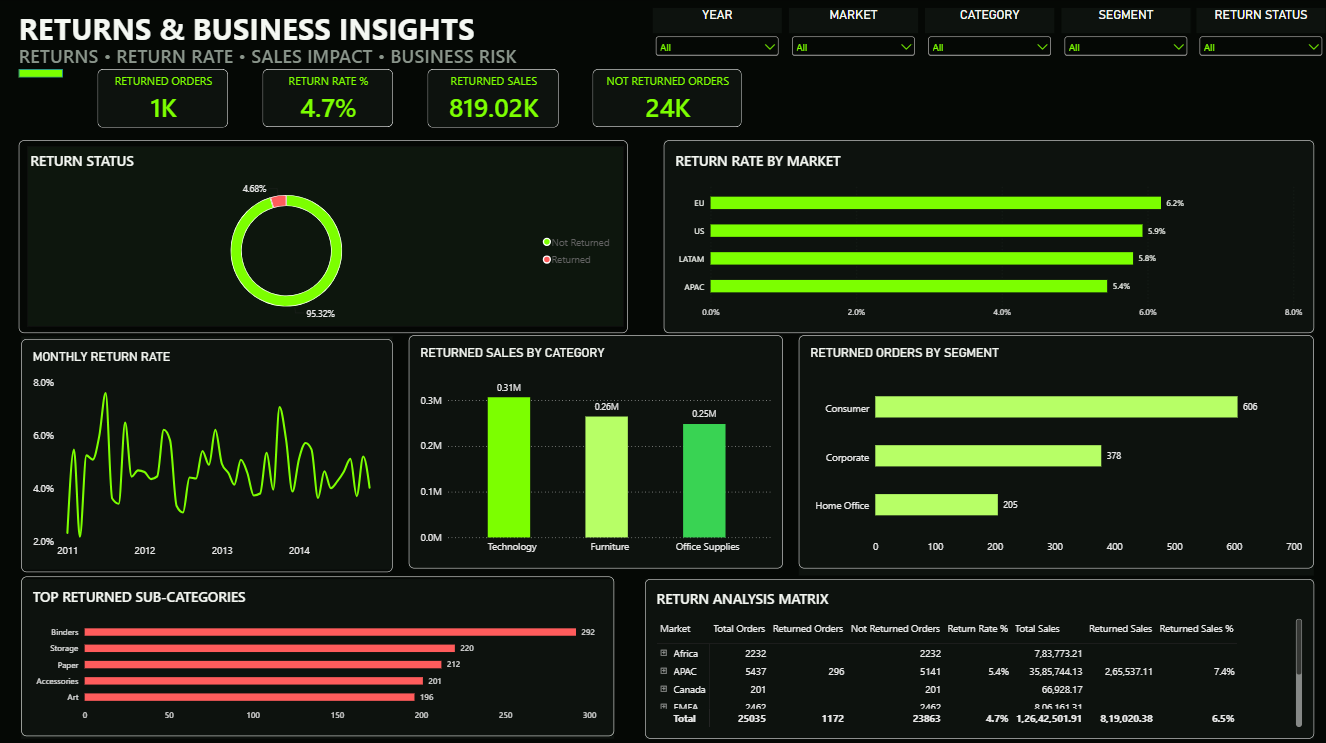

This screenshot's page, from the dashboard's own definition file:
{"tool":"powerbi","page":{"name":"06 Returns & Insights","canvas":[1920,1080],"ordinal":5},"visuals":[{"type":"shape","box":[933.3,839.6,968.8,231.2],"z":0},{"type":"shape","box":[1156.2,487.5,745.8,347.9],"z":1000},{"type":"shape","box":[591.7,487.5,541.7,337.5],"z":2000},{"type":"textbox","box":[26.8,63.8,1130,49.4],"z":3000},{"type":"shape","box":[26.8,100.9,63.8,12.3],"z":4000},{"type":"slicer","title":"YEAR","fields":{"Values":["DateTable.Year"]},"box":[943.8,12.5,187.5,87.5],"z":5000},{"type":"slicer","title":"MARKET","fields":{"Values":["Orders.Market"]},"box":[1141.1,12.5,187.5,75],"z":6000},{"type":"cardVisual","fields":{"Data":["_Measures.Returned Orders"]},"box":[140.3,100.9,189.6,85.4],"z":7000},{"type":"cardVisual","fields":{"Data":["_Measures.Return Rate %"]},"box":[379.6,100.9,189.4,84.4],"z":8000},{"type":"cardVisual","fields":{"Data":["_Measures.Returned Sales"]},"box":[618.6,100.9,190,85],"z":9000},{"type":"shape","box":[960.4,204.2,941.7,279.2],"z":10000},{"type":"clusteredColumnChart","title":"RETURNED SALES BY CATEGORY","fields":{"Y":["_Measures.Returned Sales"],"Category":["Orders.Category"]},"box":[591.7,487.5,541.7,337.5],"z":11000},{"type":"clusteredBarChart","title":"RETURN RATE BY MARKET","fields":{"Category":["Orders.Market"],"Y":["_Measures.Return Rate %"]},"box":[960.4,204.2,941.7,279.2],"z":12000},{"type":"shape","box":[30.9,487.8,537.5,337.5],"z":13000},{"type":"lineChart","title":"MONTHLY RETURN RATE","fields":{"Category":["DateTable.Month Start_1"],"Y":["_Measures.Return Rate %"]},"box":[30.9,491.9,537.5,337.5],"z":14000},{"type":"cardVisual","fields":{"Data":["DateTable.Not Returned Orders"]},"box":[858.3,100.9,216.1,84.4],"z":15000},{"type":"slicer","title":"CATEGORY","fields":{"Values":["Orders.Category"]},"box":[1338.5,12.5,187.5,75],"z":16000},{"type":"slicer","title":"SEGMENT","fields":{"Values":["Orders.Segment"]},"box":[1535.9,12.5,187.5,75],"z":17000},{"type":"clusteredBarChart","title":"RETURNED ORDERS BY SEGMENT","fields":{"Category":["Orders.Segment"],"Y":["_Measures.Returned Orders"]},"box":[1156.2,487.5,745.8,337.5],"z":18000},{"type":"shape","box":[31.2,204.2,881.2,279.2],"z":19000},{"type":"donutChart","title":"RETURN STATUS","fields":{"Category":["Return Status.Status"],"Y":["_Measures.Return Status Orders"]},"box":[27.1,204.2,881.2,279.2],"z":20000},{"type":"pivotTable","title":"RETURN ANALYSIS MATRIX","fields":{"Rows":["Orders.Market","Orders.Category"],"Values":["_Measures.Total Orders","_Measures.Returned Orders","DateTable.Not Returned Orders","_Measures.Return Rate %","_Measures.Total Sales","_Measures.Returned Sales","DateTable.Returned Sales %"]},"box":[933.3,839.6,968.8,231.2],"z":21000},{"type":"shape","box":[31.2,839.6,858.3,231.2],"z":22000},{"type":"clusteredBarChart","title":"TOP RETURNED SUB-CATEGORIES","fields":{"Category":["Orders.Sub-Category"],"Y":["_Measures.Returned Orders"]},"box":[31.2,835.4,858.3,231.2],"z":23000},{"type":"textbox","box":[27.1,12.5,752.1,87.5],"z":24000},{"type":"slicer","title":"RETURN STATUS","fields":{"Values":["Return Status.Status"]},"box":[1732.5,12.5,187.5,75],"z":25000}]}

Visuals, with their boxes in screenshot pixels (x1, y1, x2, y2), scaled from the page's 1920x1080 canvas onto the 1326x743 screenshot:
shape: x1=645 y1=578 x2=1314 y2=737
shape: x1=799 y1=335 x2=1314 y2=575
shape: x1=409 y1=335 x2=783 y2=568
textbox: x1=19 y1=44 x2=799 y2=78
shape: x1=19 y1=69 x2=63 y2=78
"YEAR" slicer: x1=652 y1=9 x2=781 y2=69
"MARKET" slicer: x1=788 y1=9 x2=918 y2=60
cardVisual - _Measures.Returned Orders: x1=97 y1=69 x2=228 y2=128
cardVisual - _Measures.Return Rate %: x1=262 y1=69 x2=393 y2=127
cardVisual - _Measures.Returned Sales: x1=427 y1=69 x2=558 y2=128
shape: x1=663 y1=140 x2=1314 y2=333
"RETURNED SALES BY CATEGORY" clusteredColumnChart: x1=409 y1=335 x2=783 y2=568
"RETURN RATE BY MARKET" clusteredBarChart: x1=663 y1=140 x2=1314 y2=333
shape: x1=21 y1=336 x2=393 y2=568
"MONTHLY RETURN RATE" lineChart: x1=21 y1=338 x2=393 y2=571
cardVisual - DateTable.Not Returned Orders: x1=593 y1=69 x2=742 y2=127
"CATEGORY" slicer: x1=924 y1=9 x2=1054 y2=60
"SEGMENT" slicer: x1=1061 y1=9 x2=1190 y2=60
"RETURNED ORDERS BY SEGMENT" clusteredBarChart: x1=799 y1=335 x2=1314 y2=568
shape: x1=22 y1=140 x2=630 y2=333
"RETURN STATUS" donutChart: x1=19 y1=140 x2=627 y2=333
"RETURN ANALYSIS MATRIX" pivotTable: x1=645 y1=578 x2=1314 y2=737
shape: x1=22 y1=578 x2=614 y2=737
"TOP RETURNED SUB-CATEGORIES" clusteredBarChart: x1=22 y1=575 x2=614 y2=734
textbox: x1=19 y1=9 x2=538 y2=69
"RETURN STATUS" slicer: x1=1197 y1=9 x2=1325 y2=60
